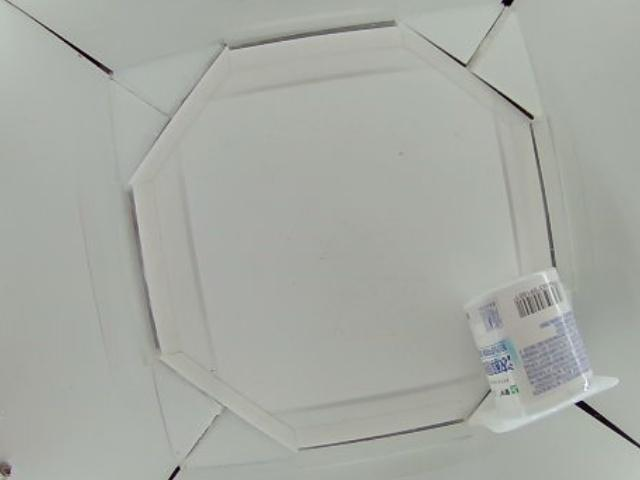Cup: (458, 263, 618, 433)
